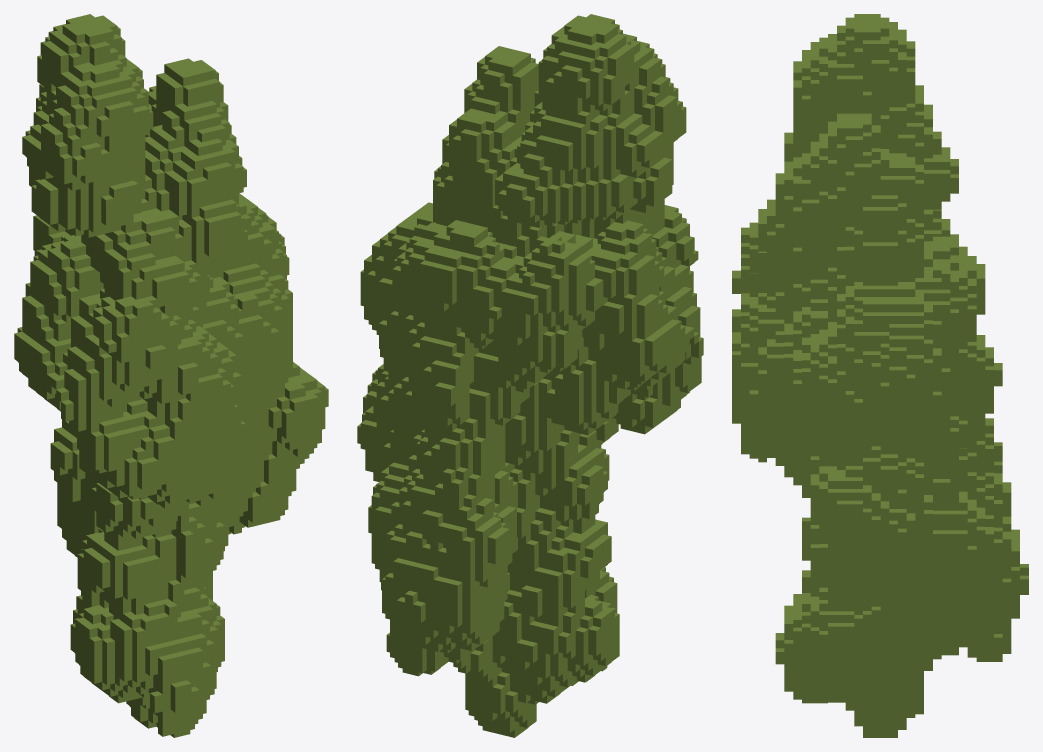
The model's file is forest1.3-3.obj.
The picture shows the model from 3 angles, left to right: view 1: azimuth 30°, elevation 25°; view 2: azimuth 150°, elevation 25°; view 3: azimuth 270°, elevation 25°; orthographic projection. The views are drawn at different scales.
Bounding box in the file's own units: 3.6 × 8.5 × 3.4.
Materials: 1 (1 with a texture image).
